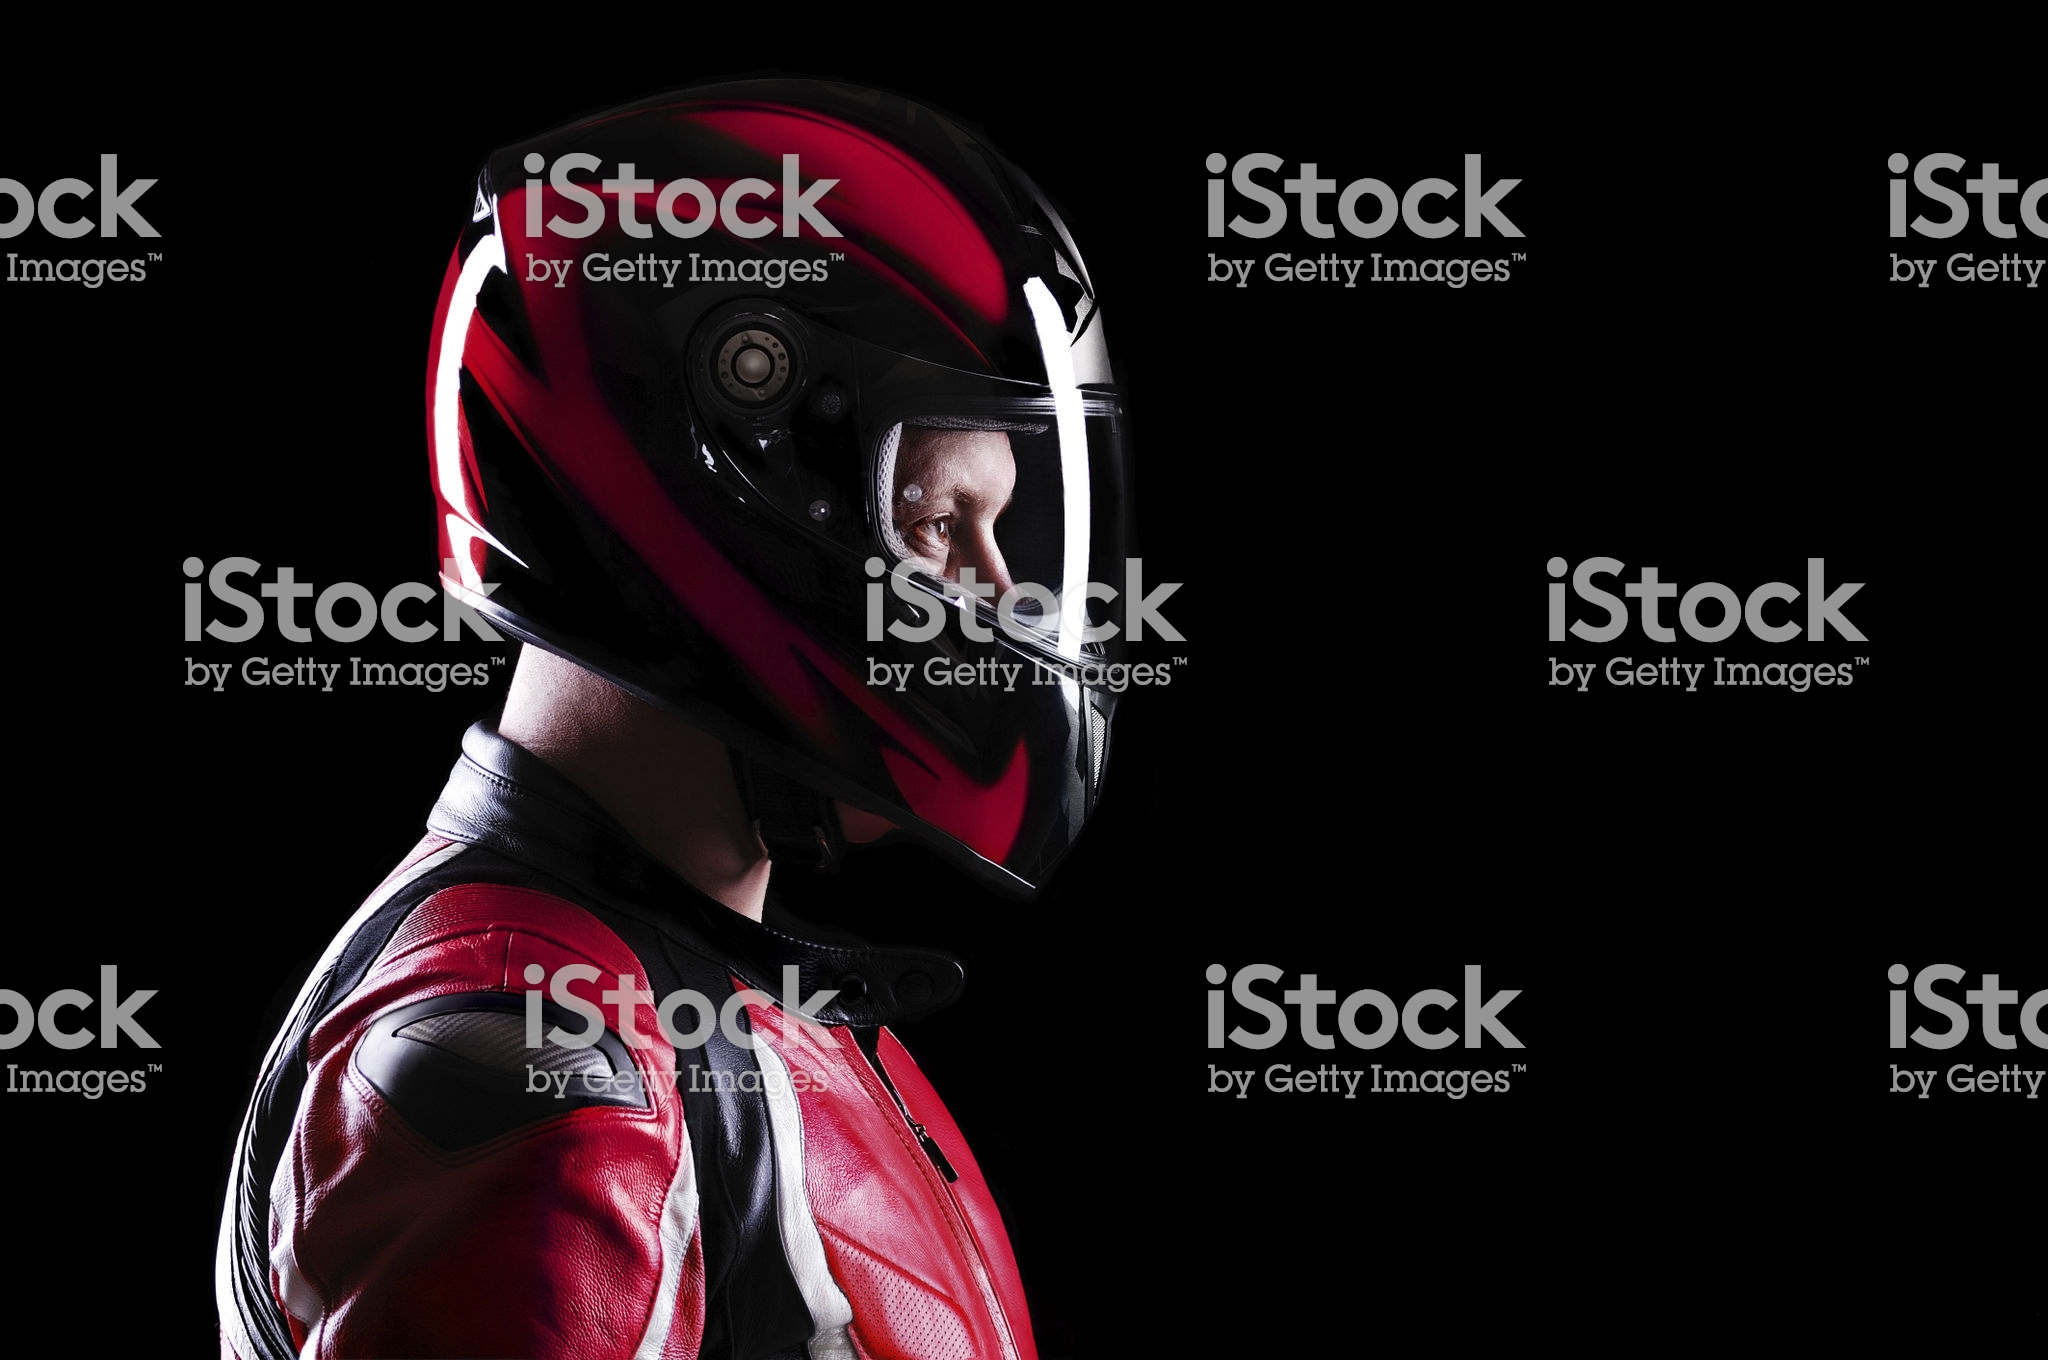helmet: (425, 114, 1151, 842)
